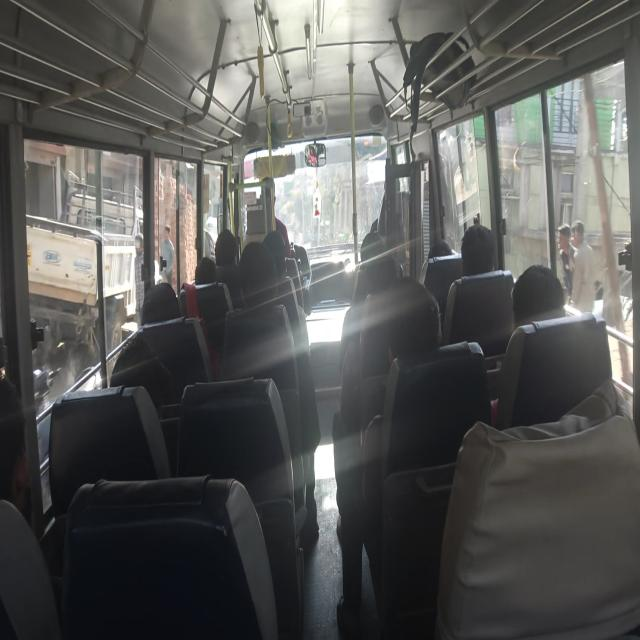person: (334, 276, 442, 636), (237, 240, 320, 542), (511, 263, 566, 328), (570, 219, 595, 313), (134, 232, 158, 326), (214, 228, 240, 304), (460, 224, 495, 276), (557, 223, 577, 301), (160, 223, 175, 286), (134, 232, 144, 326), (203, 216, 218, 258), (194, 256, 216, 284)
